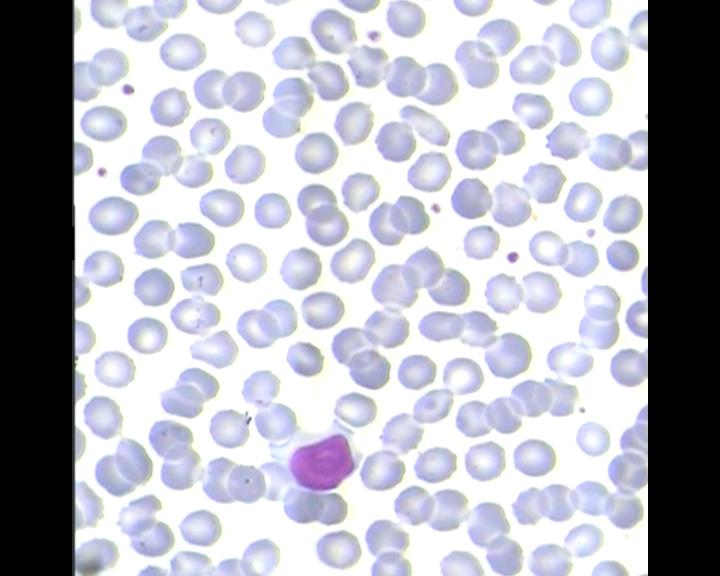lymp: (272, 423, 364, 497)
